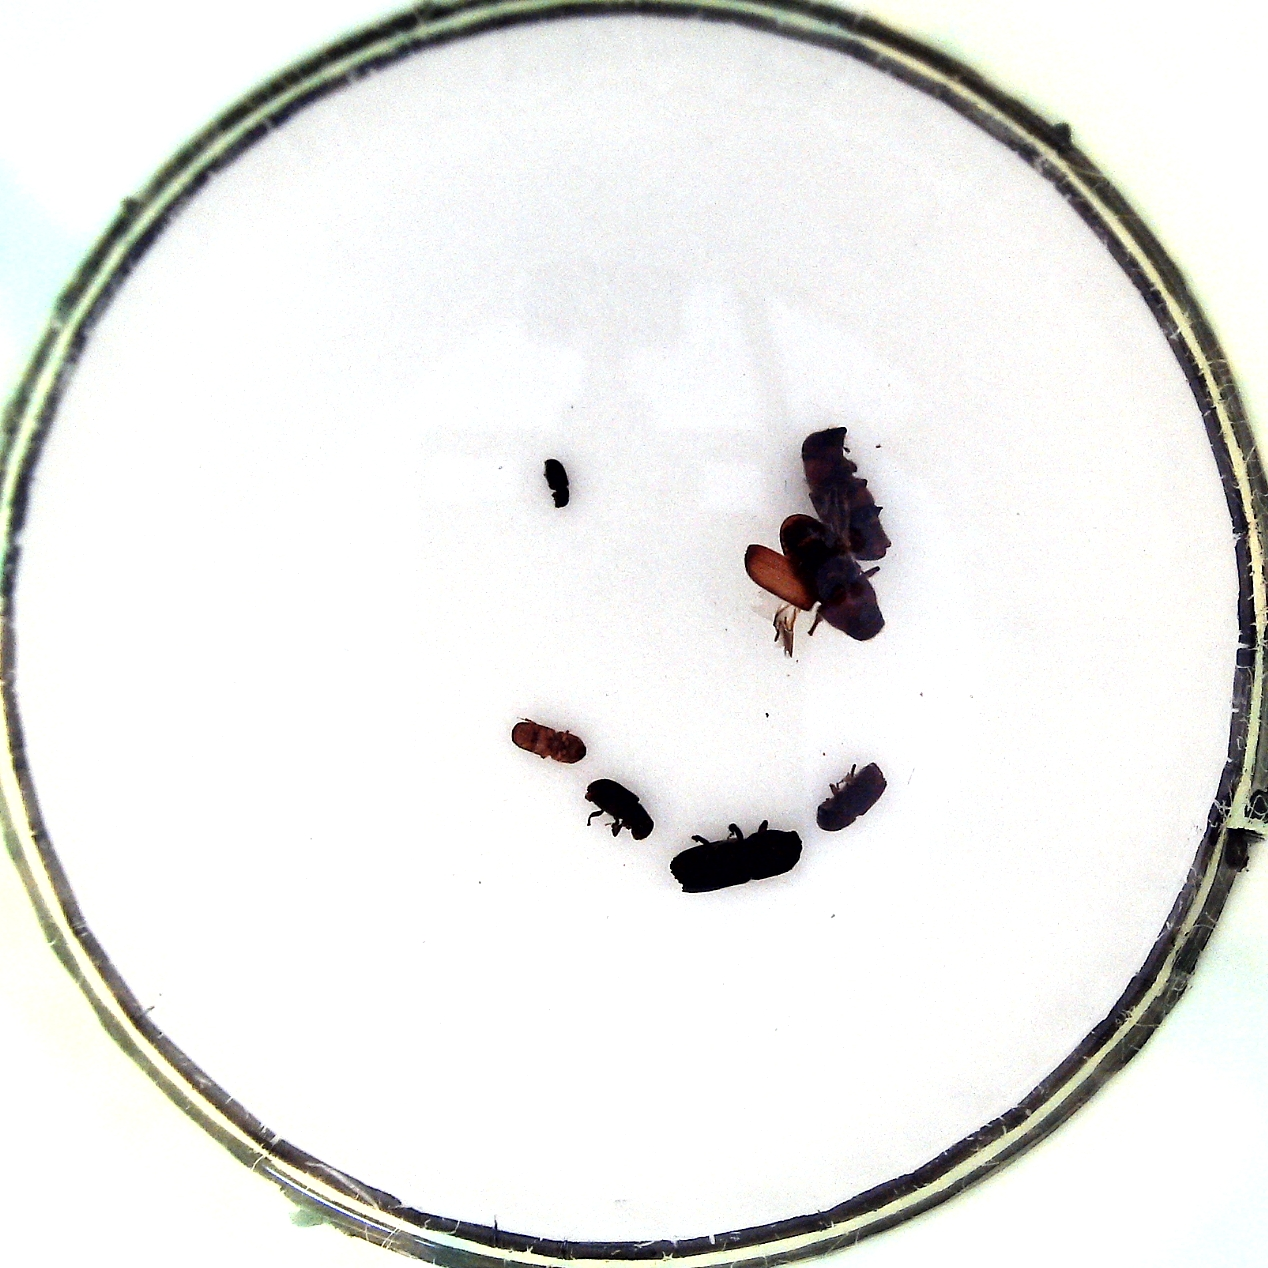Boerner: (670, 816, 809, 903)
Leconte: (735, 516, 886, 655), (799, 419, 894, 560)
Linnaeus: (810, 759, 891, 837)
acuminatus: (506, 718, 588, 772)
armandi: (579, 777, 657, 844)
coleoptera: (540, 458, 572, 509)
